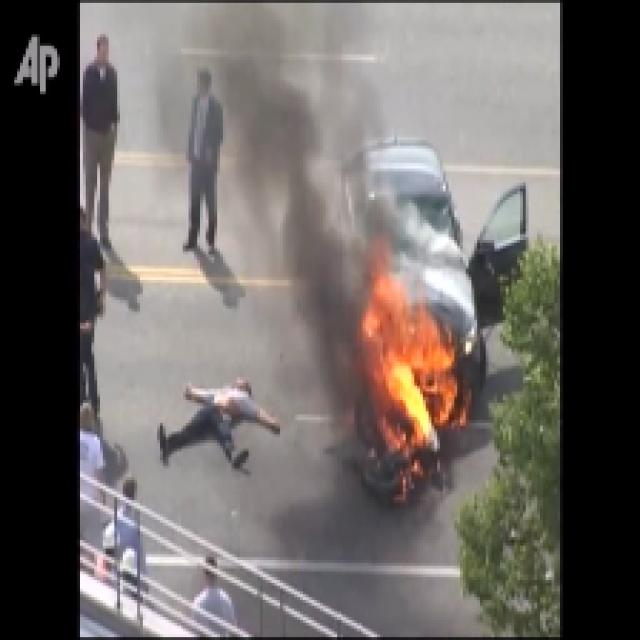fire: (381, 314, 454, 448)
smoke: (278, 48, 371, 326)
